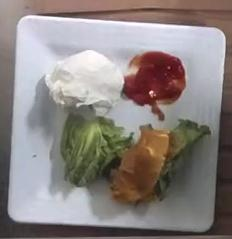burger: (111, 120, 211, 204)
lettuce: (61, 113, 133, 186)
